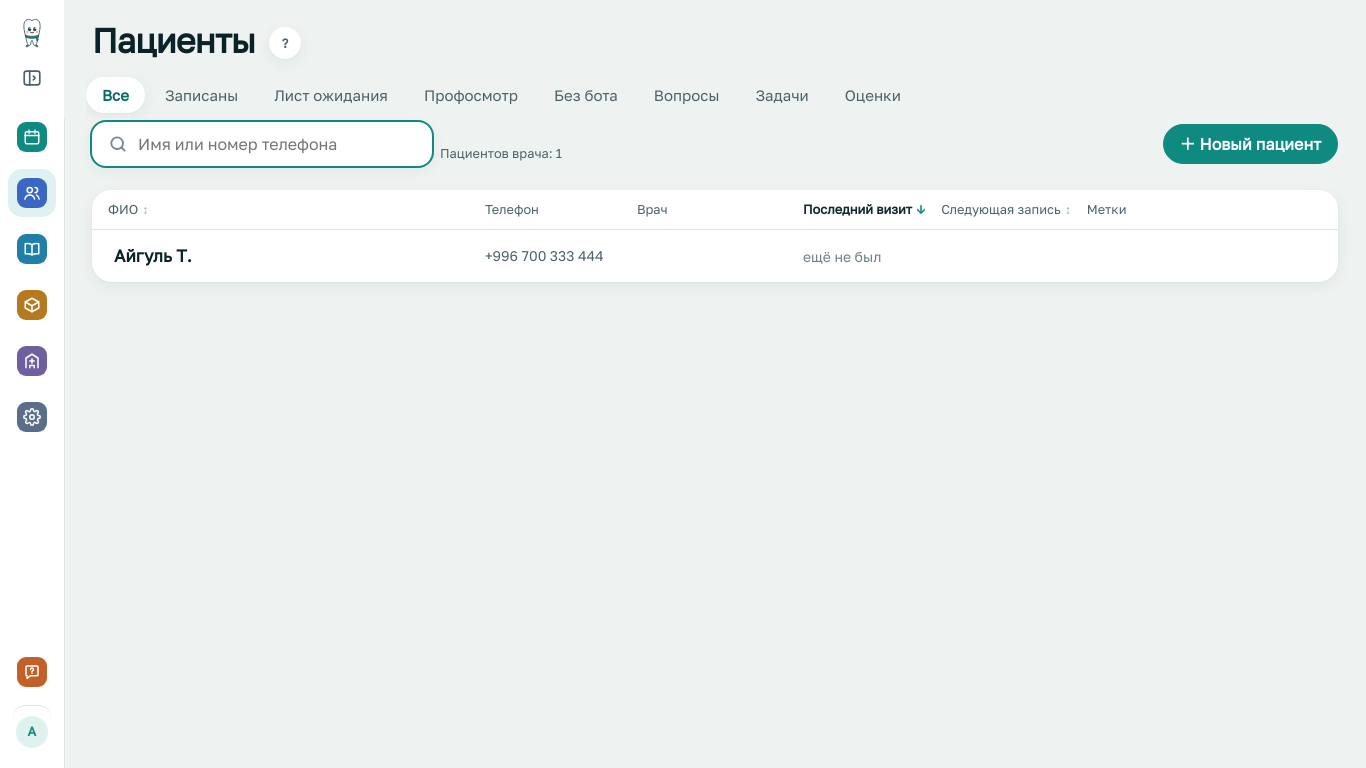
Test: ассистент печатает план без цен
Later steps or results of the test are not shown.
Click the button "Айгуль Т." at (153, 256), box left=114, top=243, right=192, bottom=269
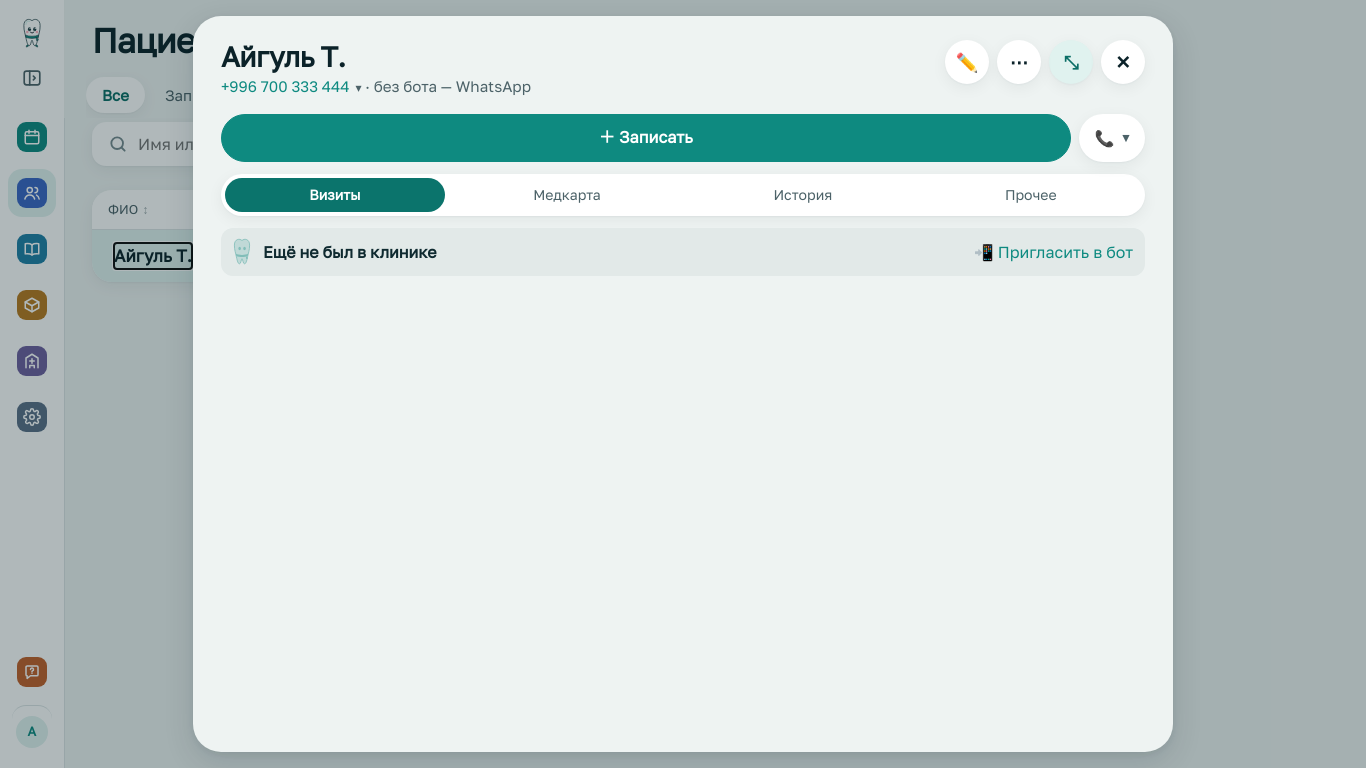
Click the tab "Медкарта" at (567, 195), box left=449, top=178, right=685, bottom=212
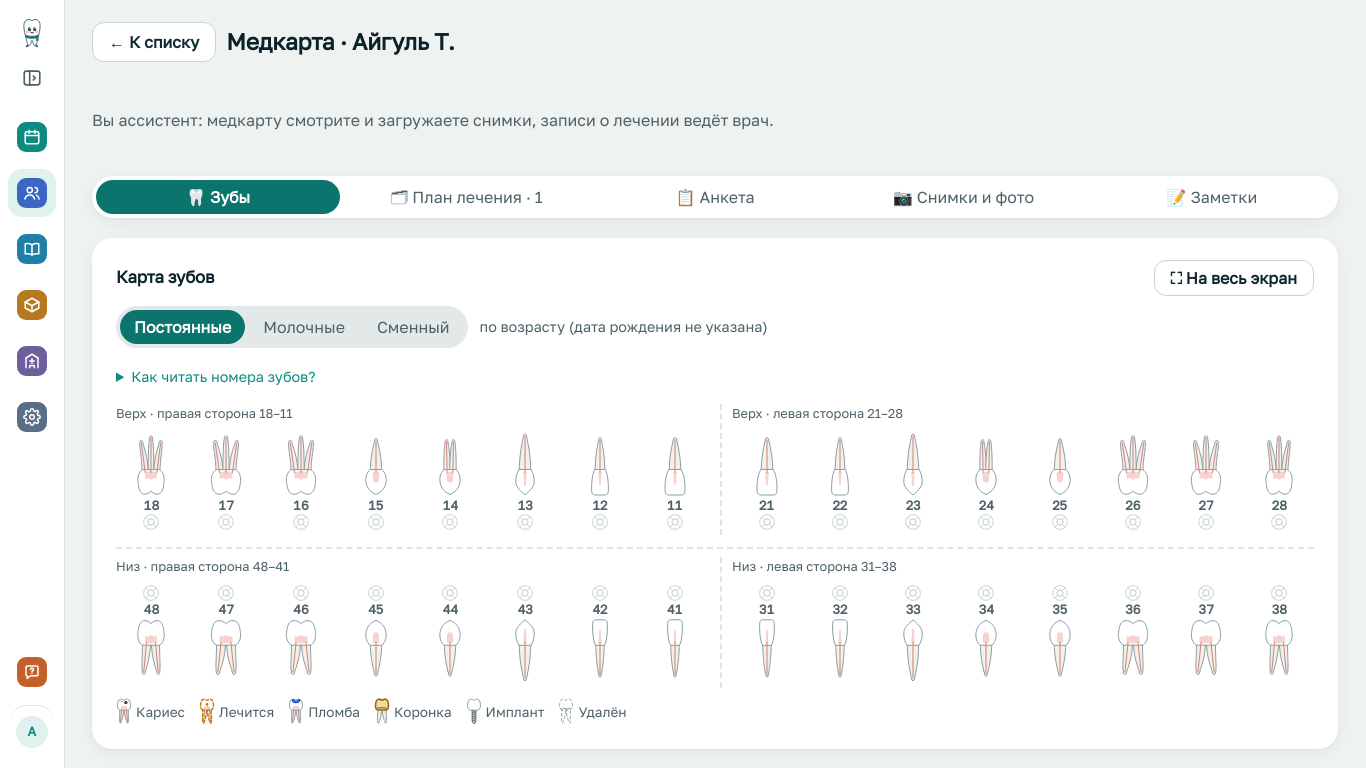
Expected: the heading "Медкарта · Айгуль Т." is shown, left=226, top=25, right=455, bottom=59
